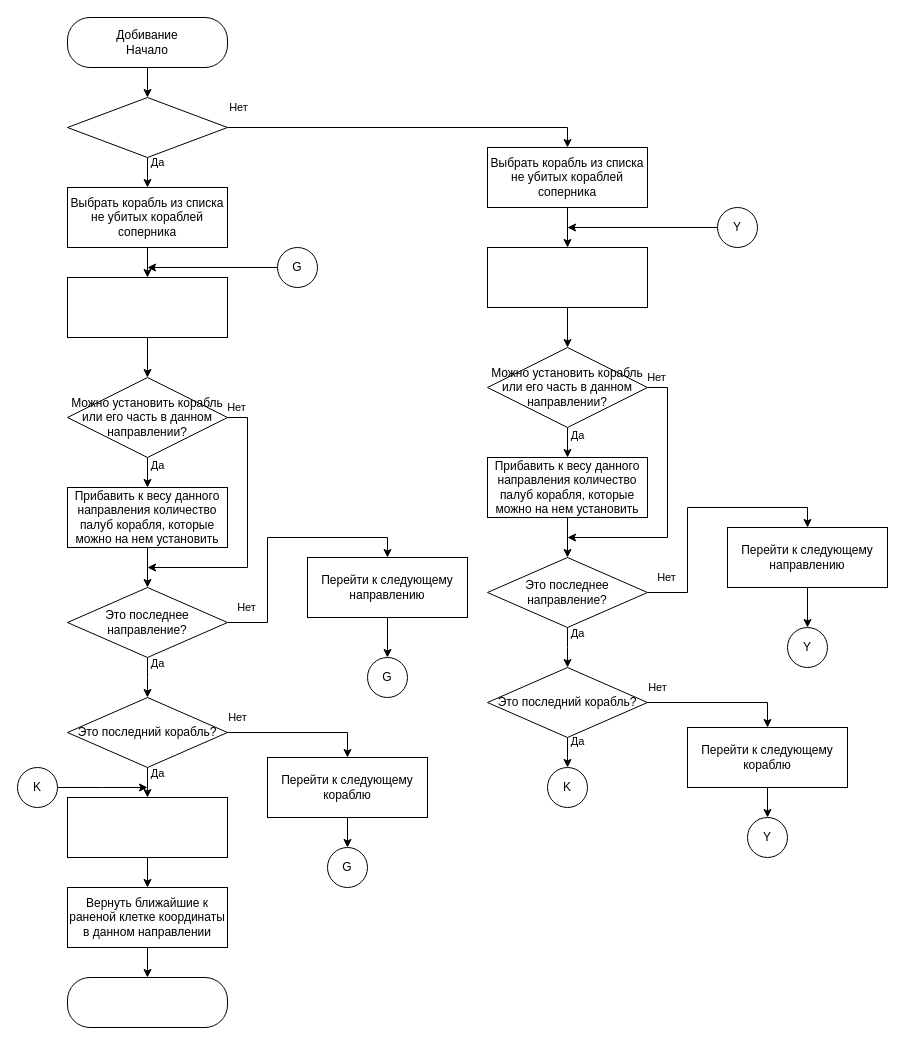
The diagram is 905 pixels wide and 1045 high, and some of its shapes have lost their labels. Each missing label, with the box of its shape:
Добивание Конец: (66, 976, 228, 1028)
Определить направление с бОльшим весом: (66, 796, 228, 858)
Проанализировать ближайшие клетки по направлению раненых: (486, 246, 648, 308)
Проанализировать каждое направление вокруг раненой клетки: (66, 276, 228, 338)
Ранена одна клетка?: (66, 96, 228, 158)
